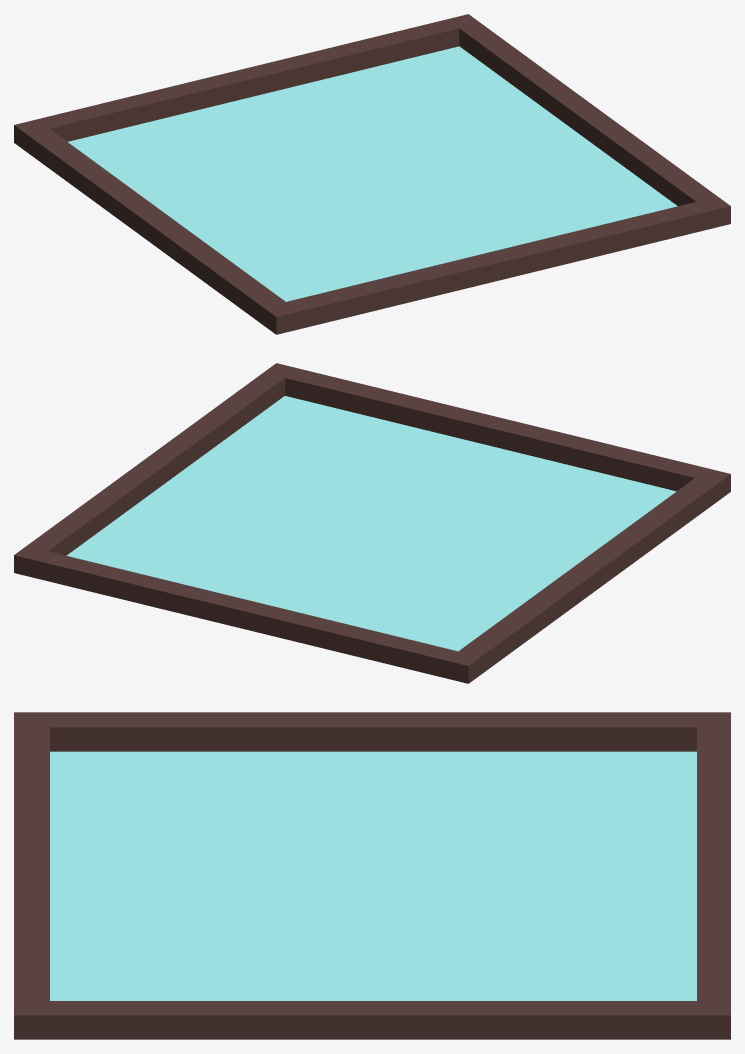
Rendered from map.fbx.
The picture shows the model from 3 angles, top to bottom: view 1: azimuth 30°, elevation 25°; view 2: azimuth 150°, elevation 25°; view 3: azimuth 270°, elevation 25°; orthographic projection. The views are drawn at different scales.
Parts seen in each view (by area): view 1: Plane; view 2: Plane; view 3: Plane.
Part boxes in pixels (<box>): Plane: <box>14,14,730,334</box>; Plane: <box>14,363,730,683</box>; Plane: <box>14,712,730,1039</box>.
Bounding box in the file's own units: 8000 × 300 × 8000.
